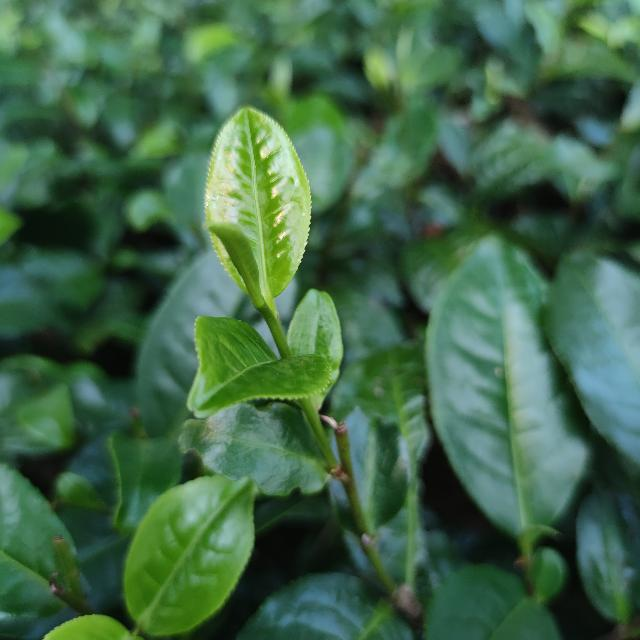Stem: (268, 319, 291, 357)
